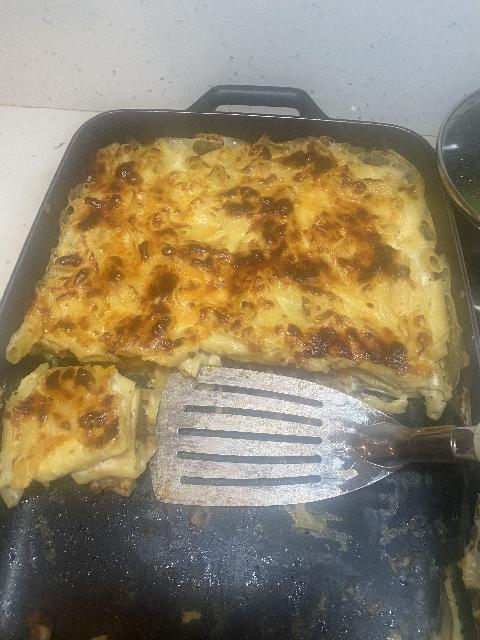Metal: (176, 384, 375, 489)
Organik: (89, 159, 390, 340), (8, 370, 144, 505)
